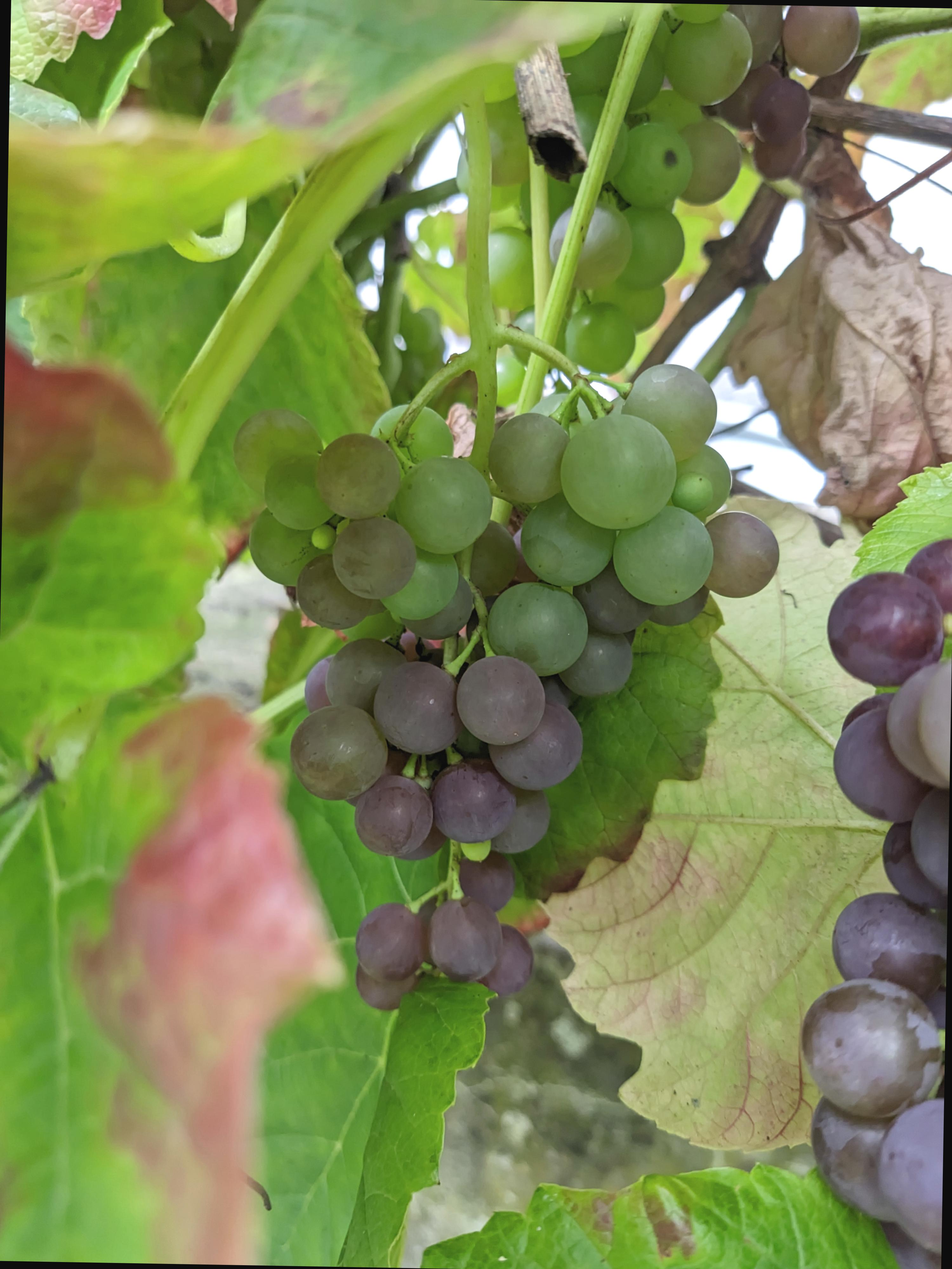Grape Unripe: (234, 346, 791, 1010), (465, 0, 871, 372), (801, 528, 952, 1269)
